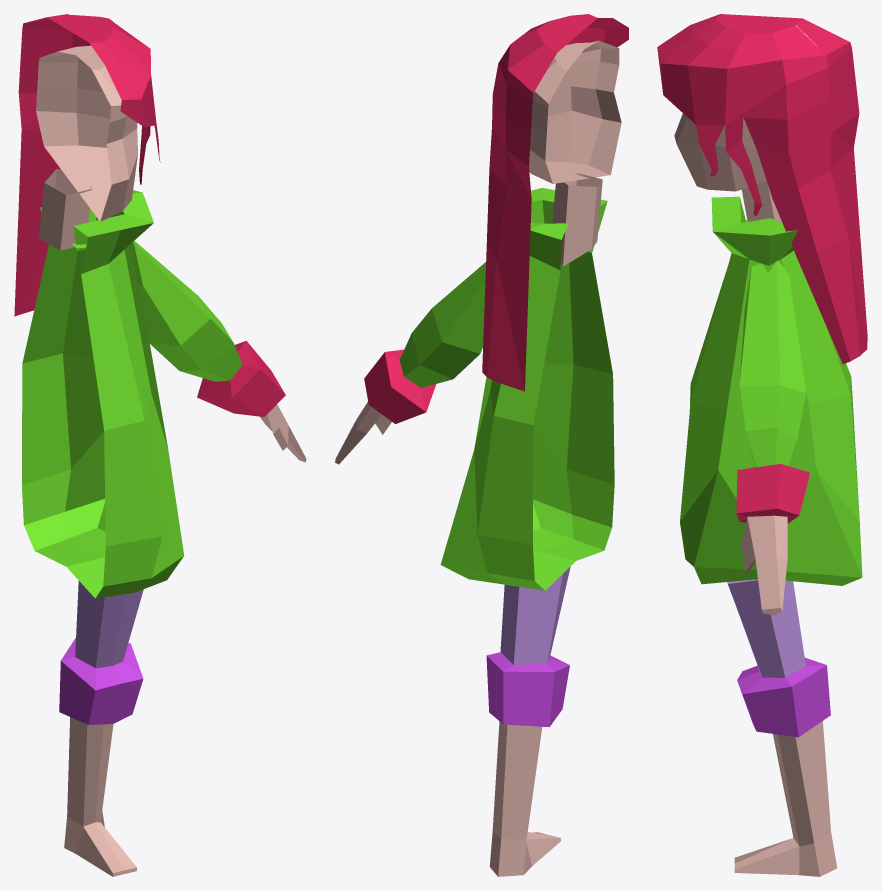
Rendered from Personaje.glb.
3 renders of one model, left to right at view 1: azimuth 30°, elevation 25°; view 2: azimuth 150°, elevation 25°; view 3: azimuth 270°, elevation 25°, orthographic. The views are drawn at different scales.
Visible parts, largest first — view 1: Torso, Piernas, Pelluca, Cabeza, Braszos, Cilindro; view 2: Torso, Pelluca, Piernas, Cabeza, Braszos, Cilindro; view 3: Pelluca, Torso, Piernas, Braszos, Cabeza, Cilindro.
Part boxes in pixels (x1,y1,x2,y2): Torso: [22, 190, 184, 598]; Piernas: [59, 581, 143, 876]; Pelluca: [14, 14, 160, 316]; Cabeza: [36, 45, 137, 221]; Braszos: [130, 240, 306, 462]; Cilindro: [38, 169, 91, 250]; Torso: [440, 187, 614, 590]; Pelluca: [482, 14, 628, 391]; Piernas: [486, 566, 570, 876]; Cabeza: [529, 40, 621, 183]; Braszos: [335, 262, 485, 464]; Cilindro: [552, 173, 602, 266]; Pelluca: [657, 14, 867, 364]; Torso: [680, 196, 862, 585]; Piernas: [727, 579, 837, 876]; Braszos: [736, 260, 810, 615]; Cabeza: [674, 113, 766, 191]; Cilindro: [741, 181, 782, 223].
Size of what is drawn, in the model's own units: 1.2 by 3.74 by 0.8545.
